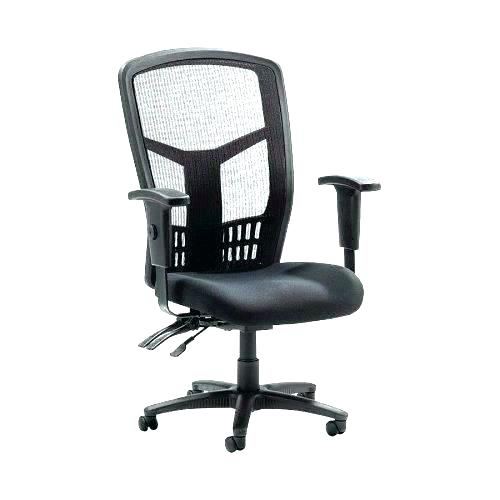chairs: (110, 45, 382, 460)
